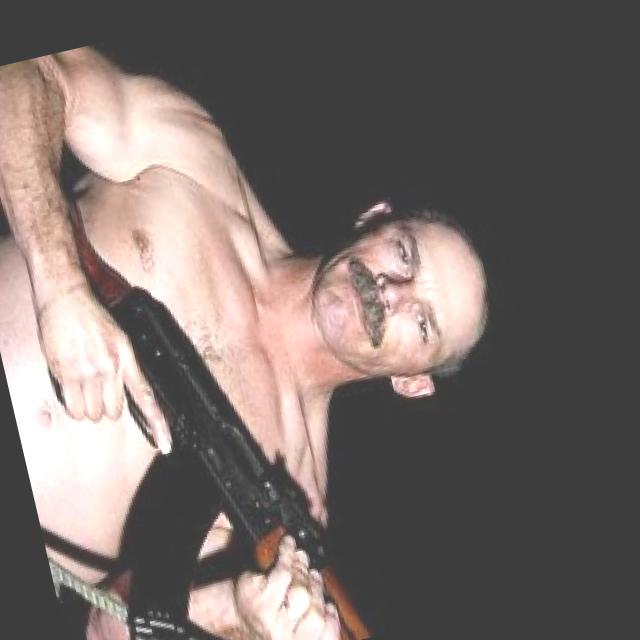long weapon: (13, 121, 404, 639)
